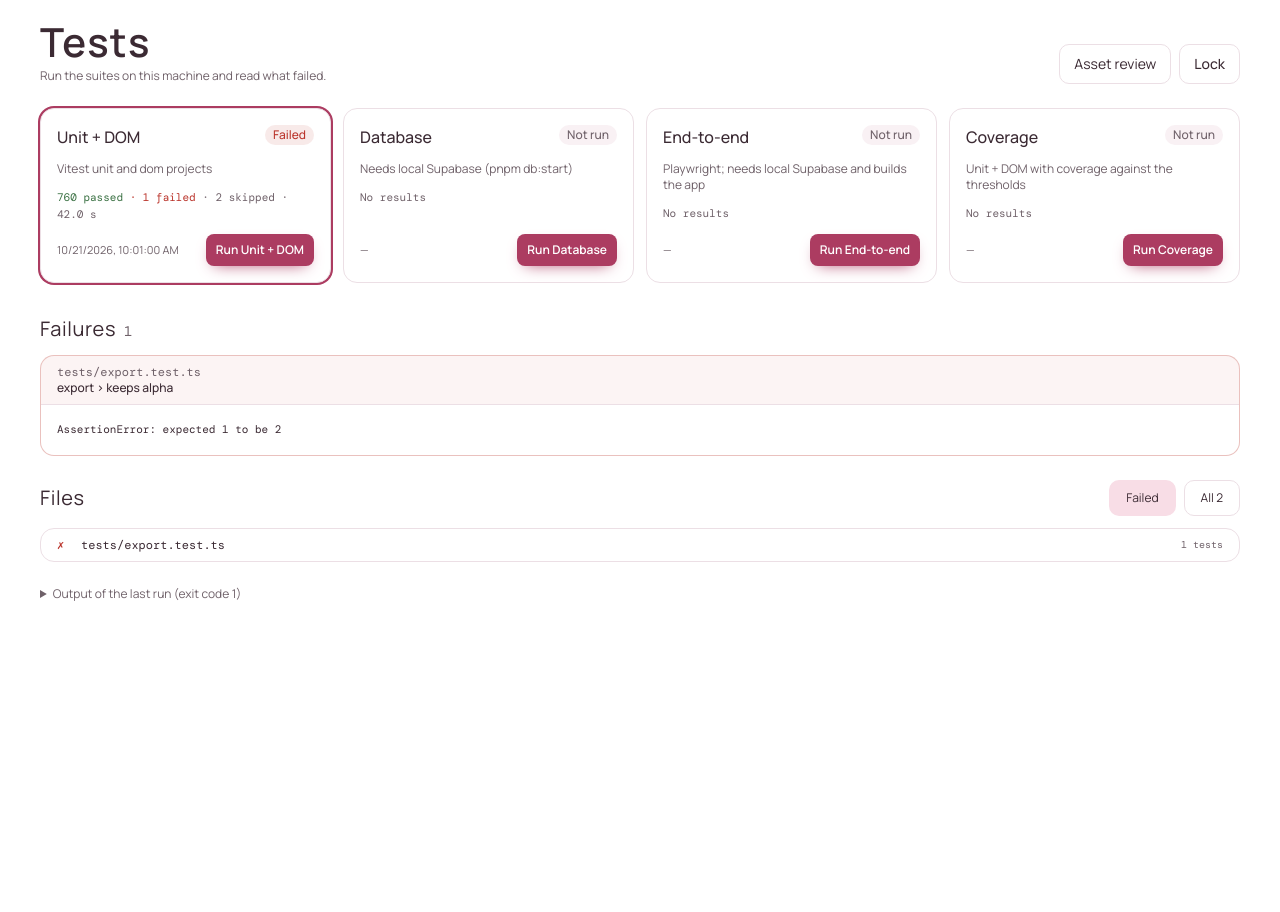
runs a suite and shows why it couldn't
This screenshot has width=1280, height=912.
What coordinates should you click on to do the following:
click the button "Run Database"
I would click on:
 (567, 250)
Its box is [517,234,617,266].
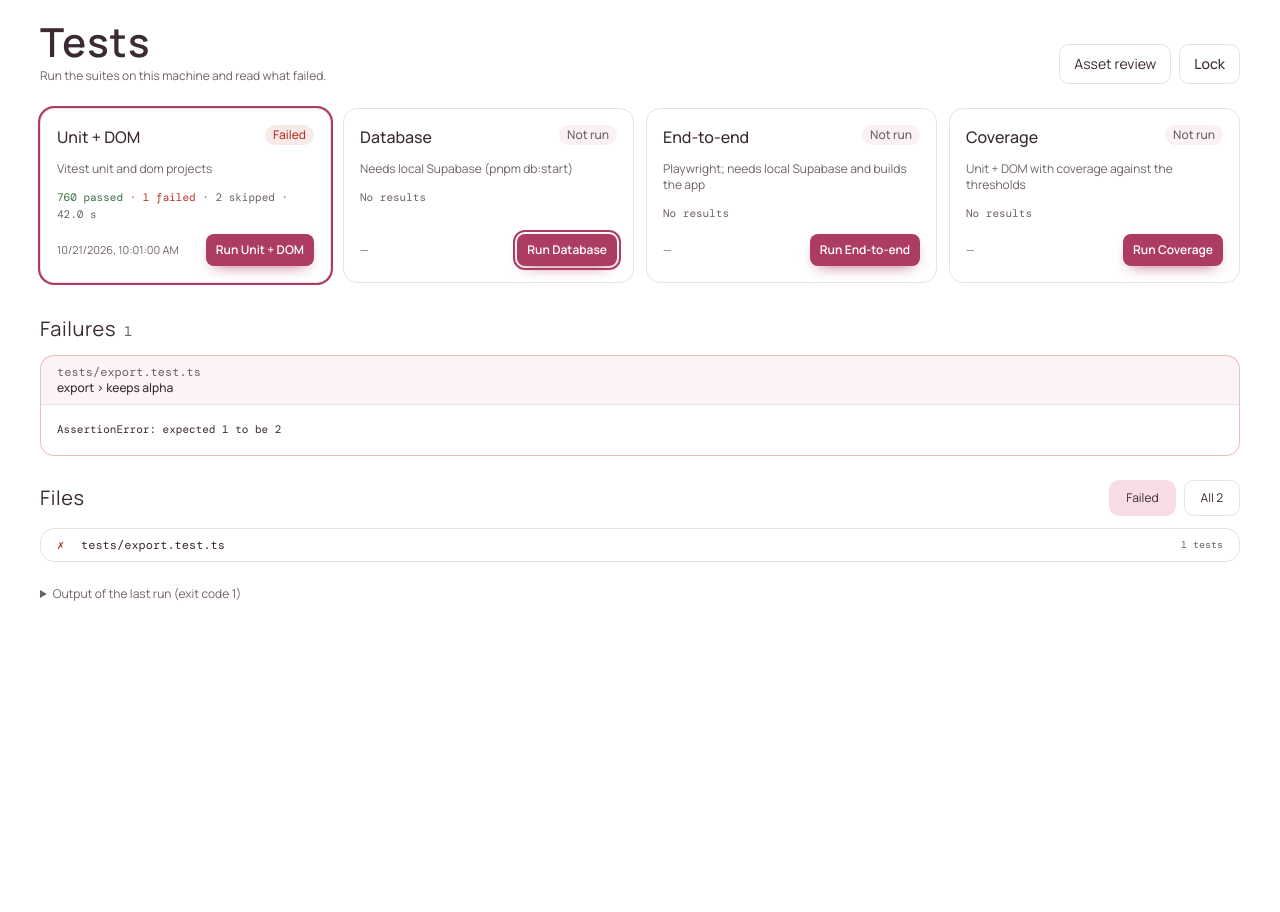
What coordinates should you click on to do the following:
click the button "Run End-to-end"
I would click on:
 (865, 250)
Its box is [810,234,920,266].
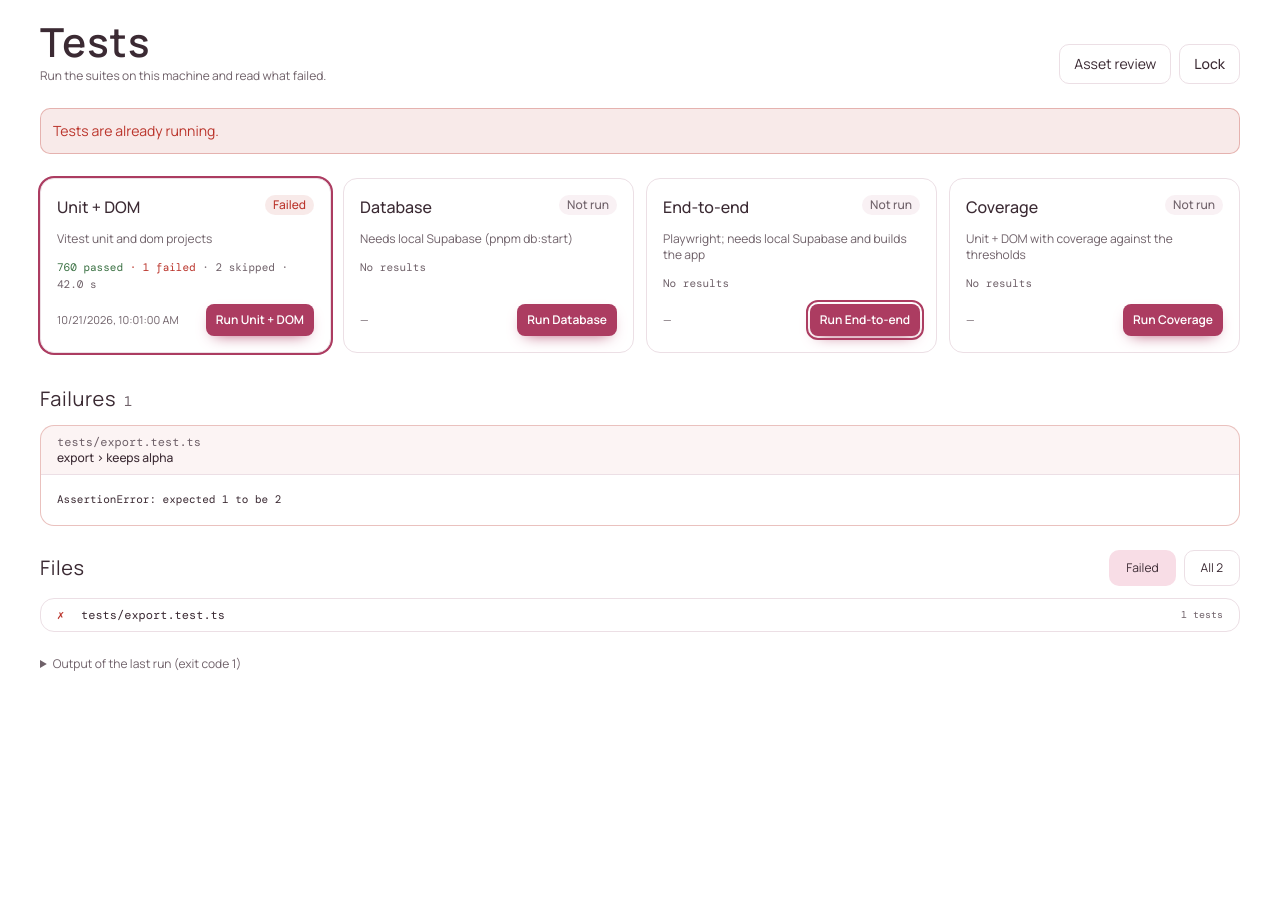
Check: the message reads "Tests are already running.", box [53,121,219,140]
